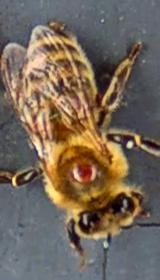varroa_mite: (58, 150, 105, 186)
